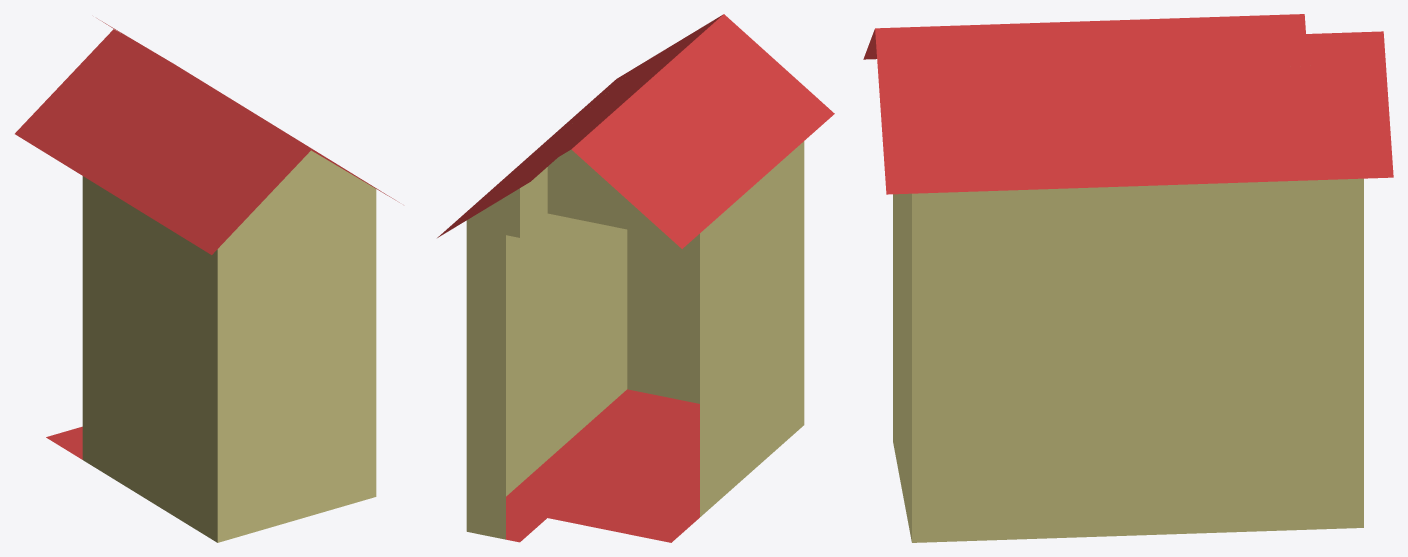
3 renders of one model, left to right at view 1: azimuth 30°, elevation 25°; view 2: azimuth 150°, elevation 25°; view 3: azimuth 270°, elevation 25°, orthographic. The views are drawn at different scales.
Bounding box in the file's own units: 8.82 × 14.32 × 13.89.
